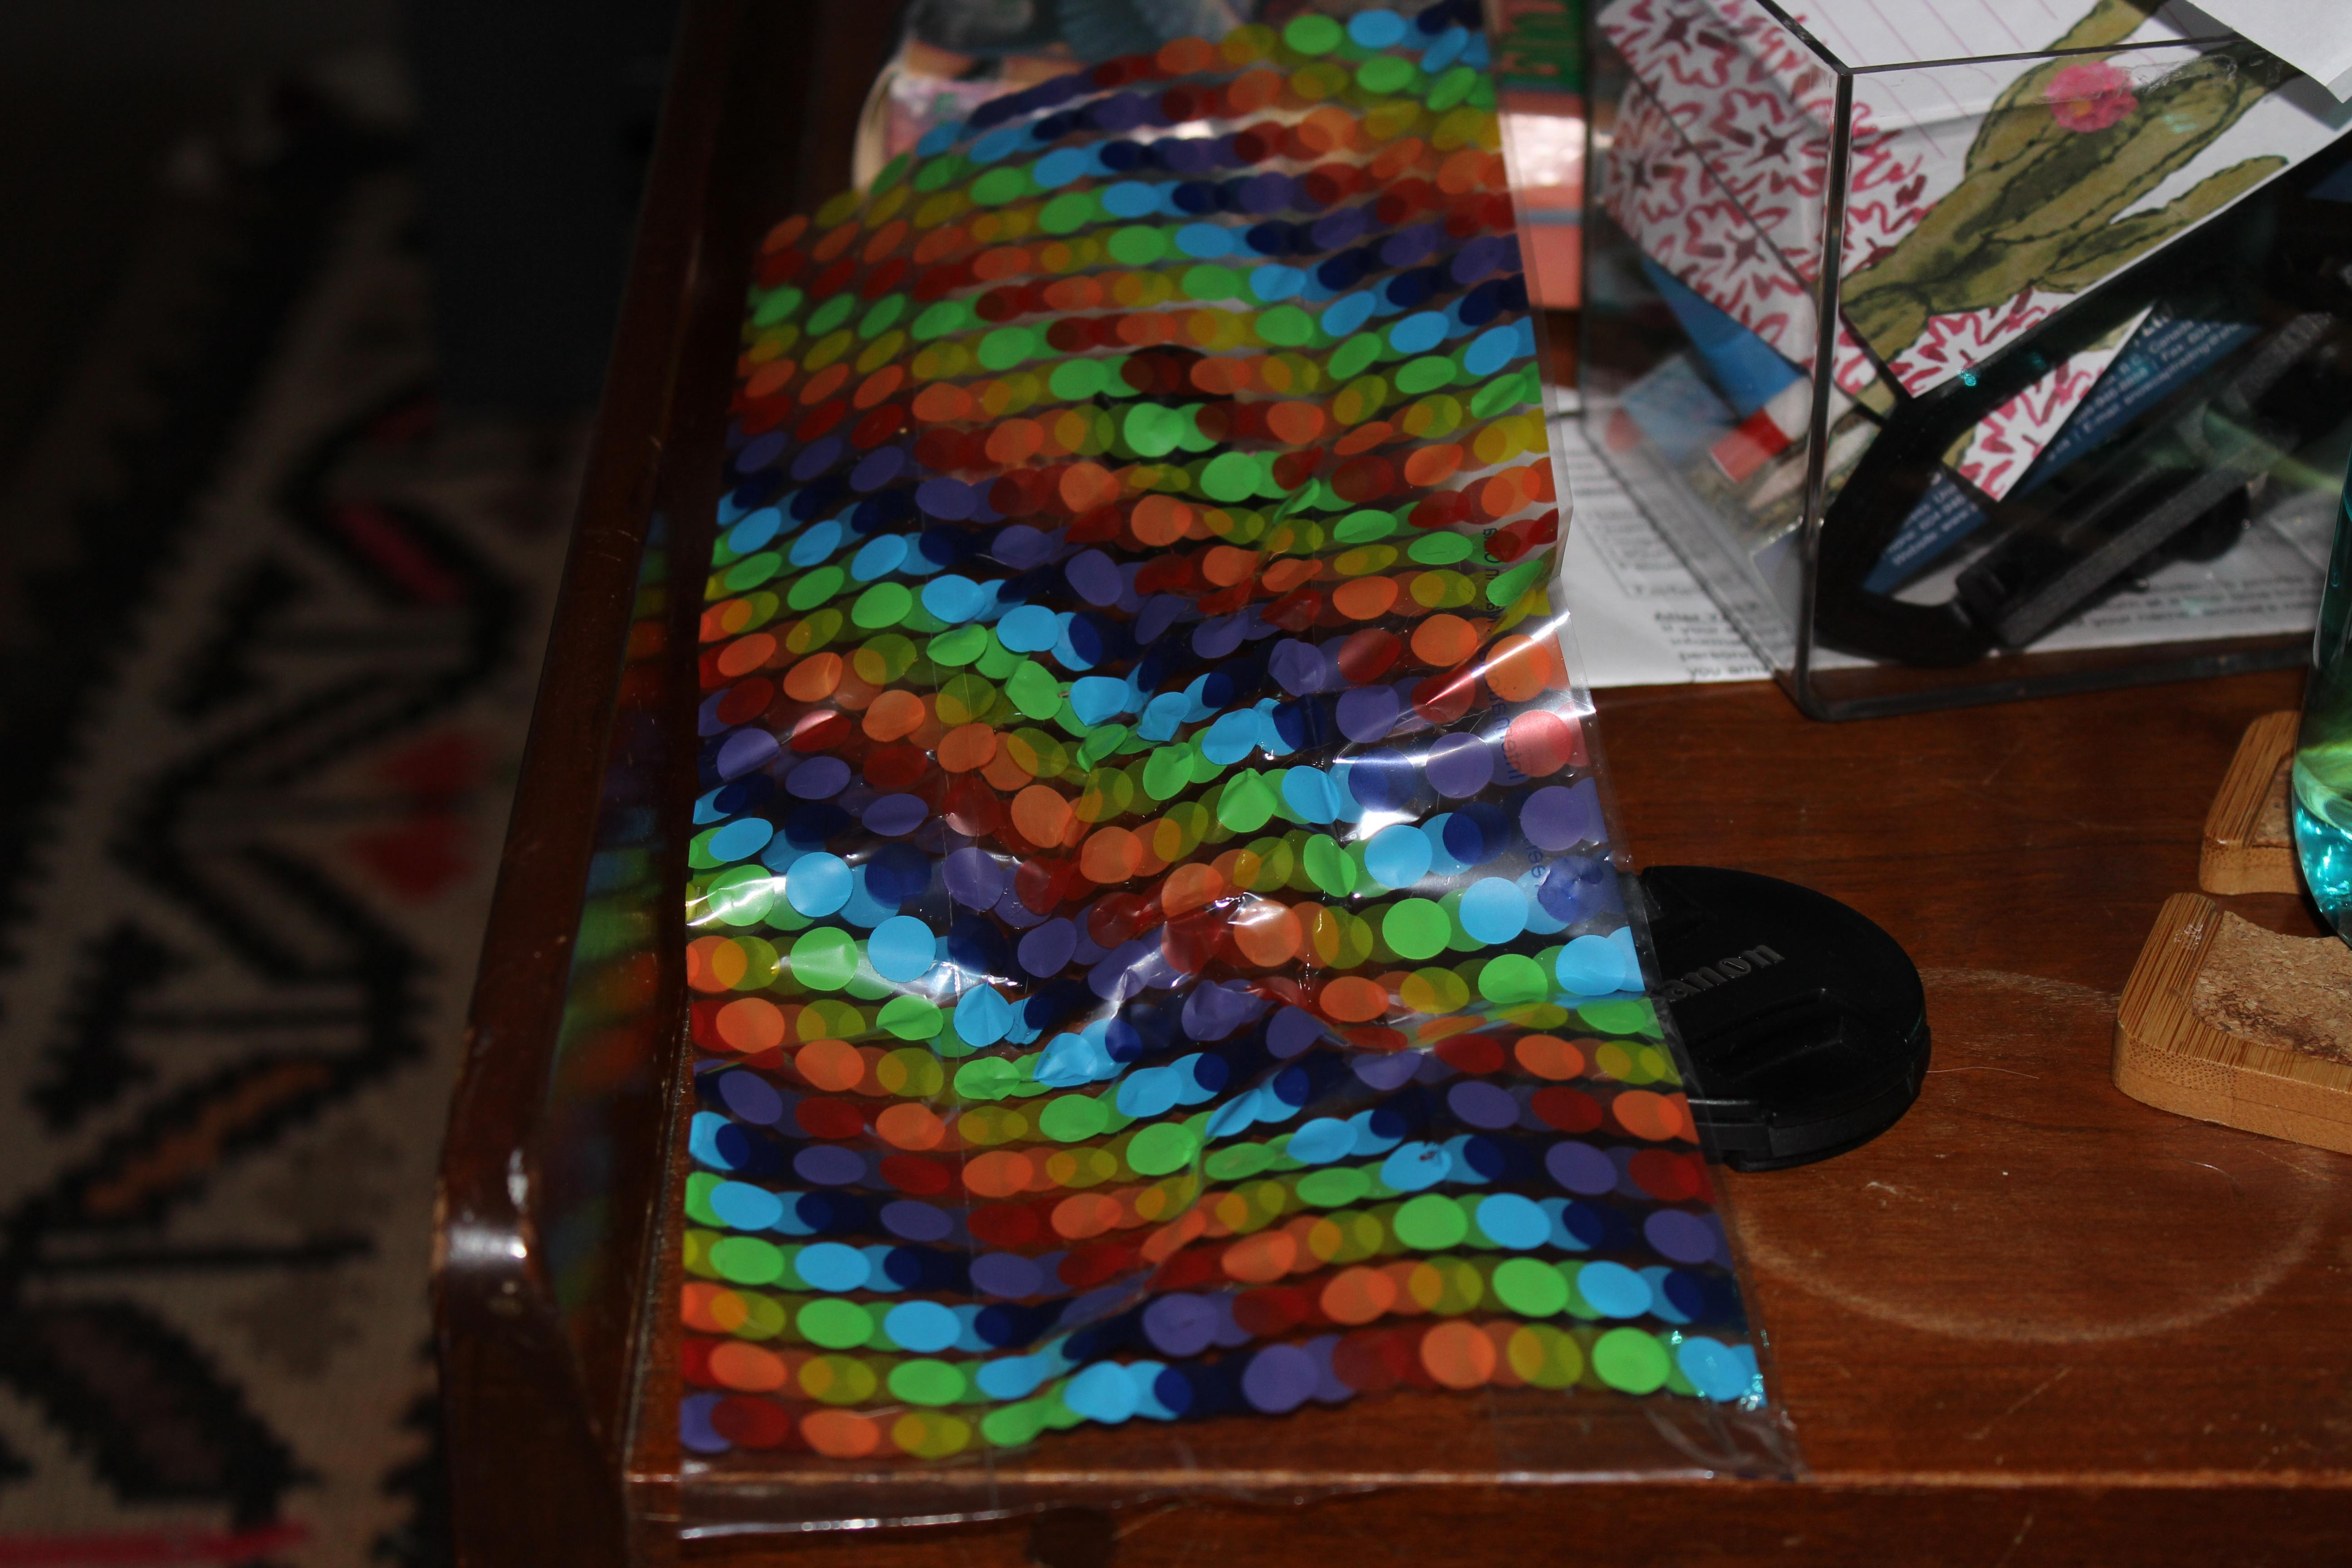giftBag: (646, 2, 1822, 1510)
